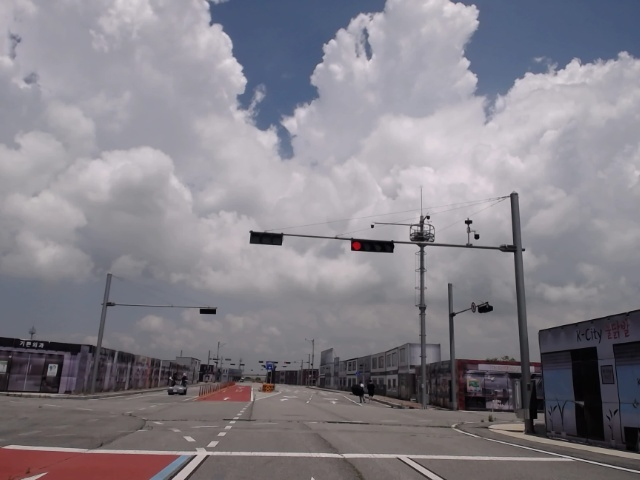red_4: (351, 239, 393, 253)
